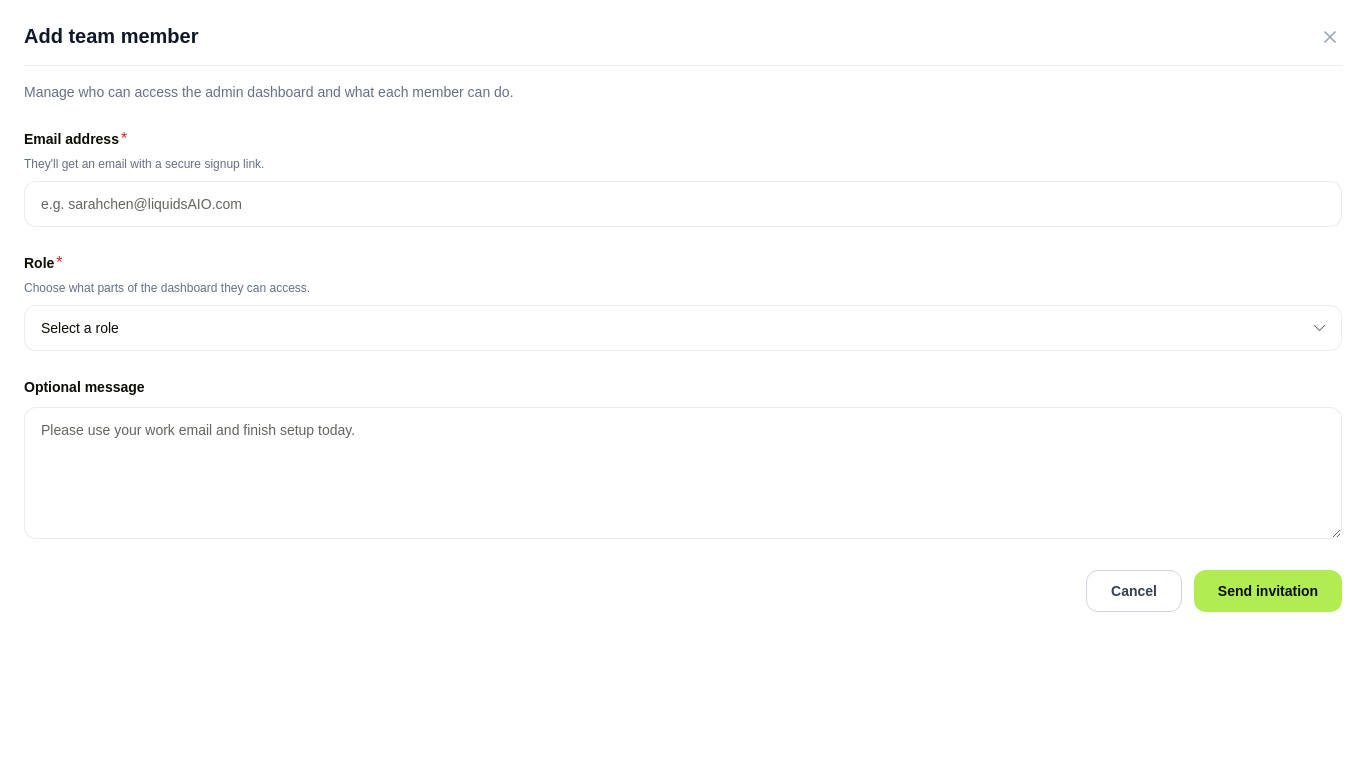
Test case: AddTeamMemberModal › renders every settings permission variant from catalog and roles
What coordinates should you click on to do the following:
click the button with test id "add-team-member-role"
I would click on:
 (80, 328)
Its box is [24, 305, 1342, 351].
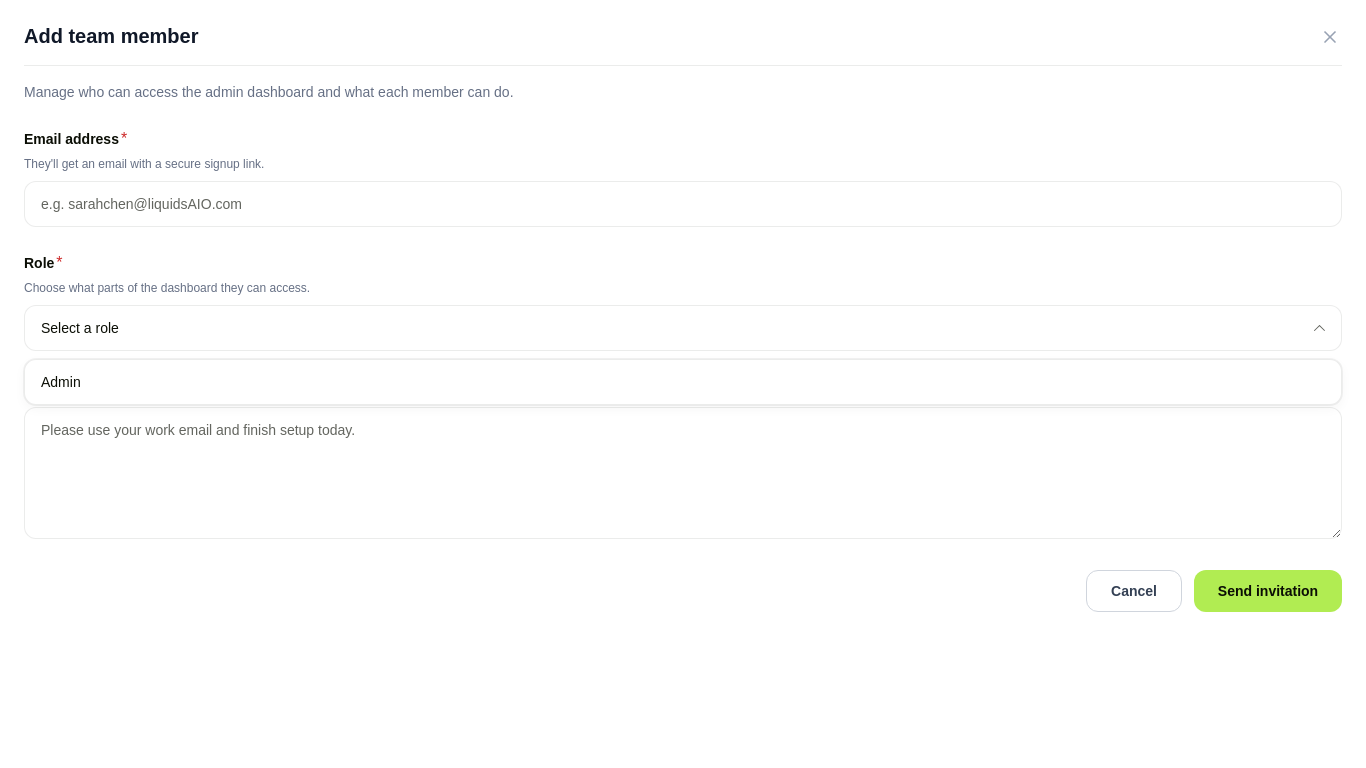
What coordinates should you click on to do the following:
click the option "Admin"
I would click on:
 (61, 382)
Its box is [29, 364, 1337, 400].
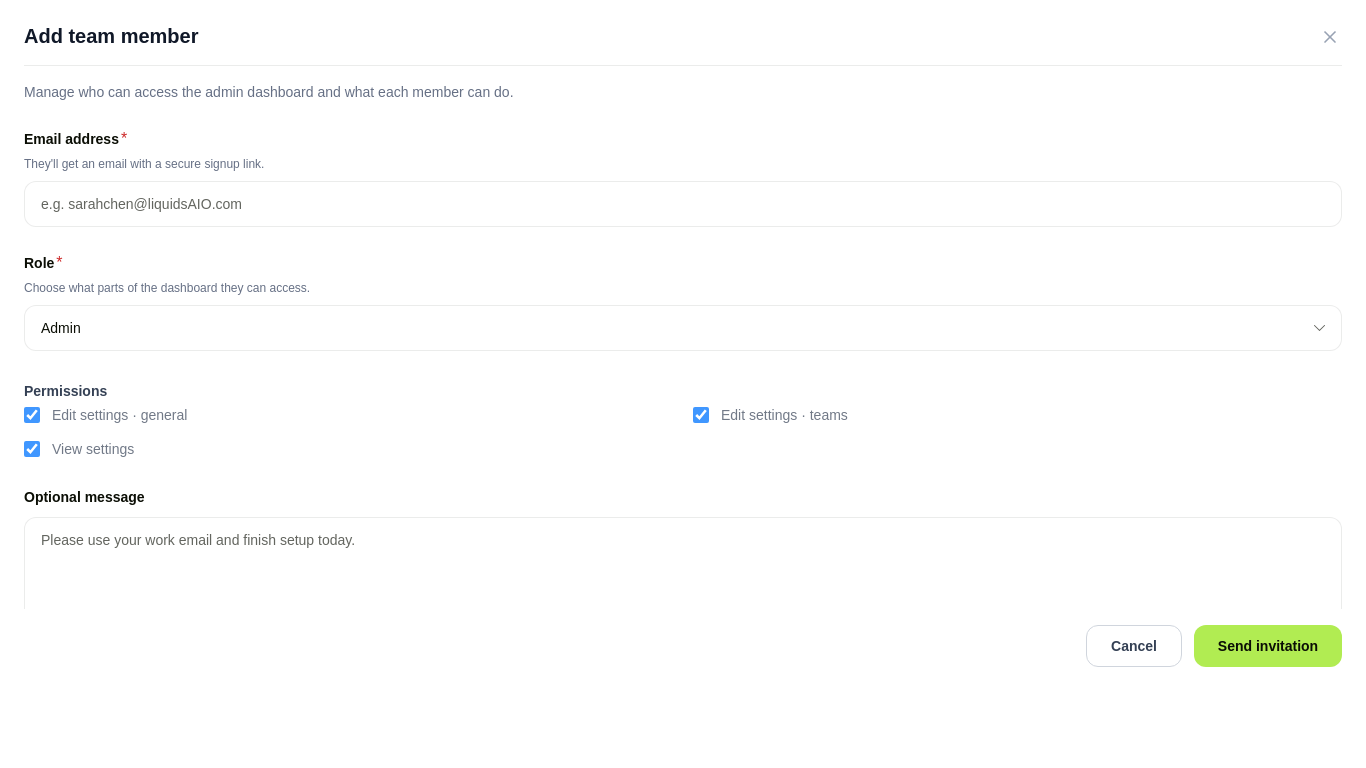
Check: the text "View settings" is shown, box [52, 439, 134, 459]
Check: the text "Edit settings · general" is shown, box [52, 405, 187, 425]
Check: the text "Edit settings · teams" is shown, box [721, 405, 848, 425]
